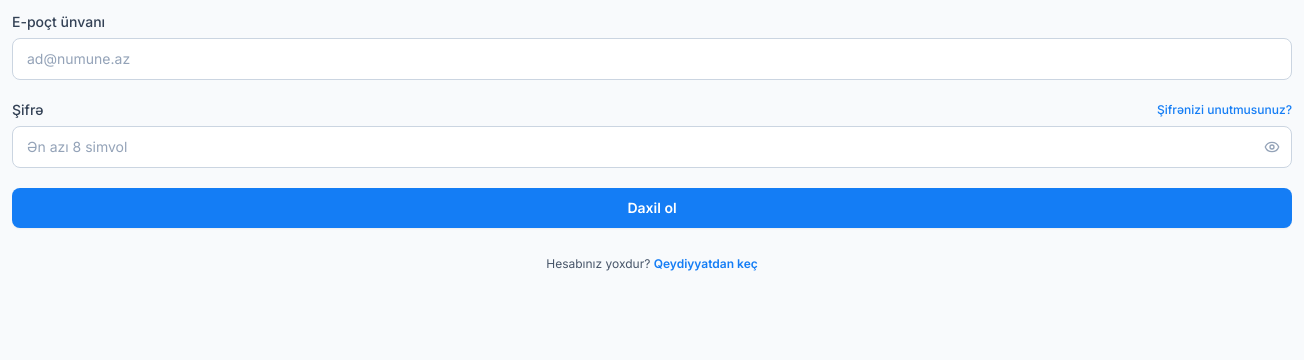
Test: LoginForm Component › displays backend error message in red banner on rejected login
Type "wrong@feedlab.az" into the field labelled "E-poçt ünvanı". click: {"x": 652, "y": 59}
box: [12,38,1292,80]
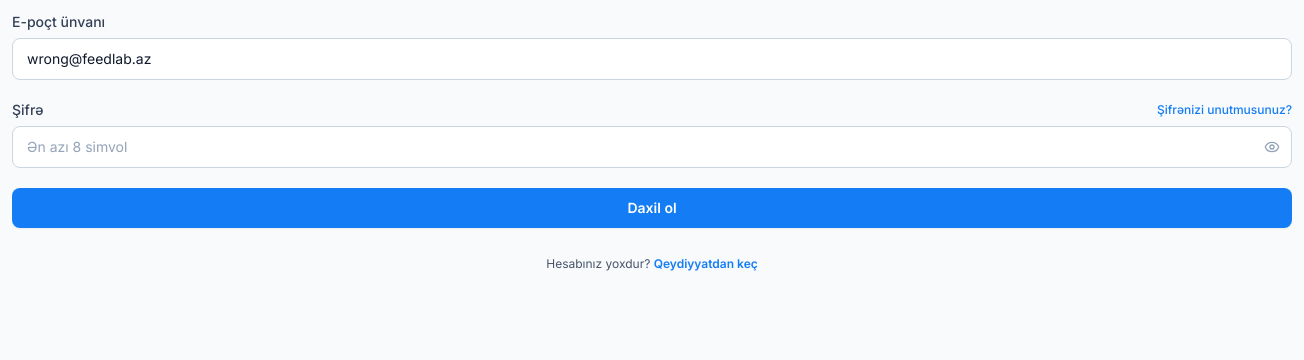
Type "WrongPassword123!" into the password field labelled "Şifrə". click: {"x": 652, "y": 147}
box: [12,126,1292,168]
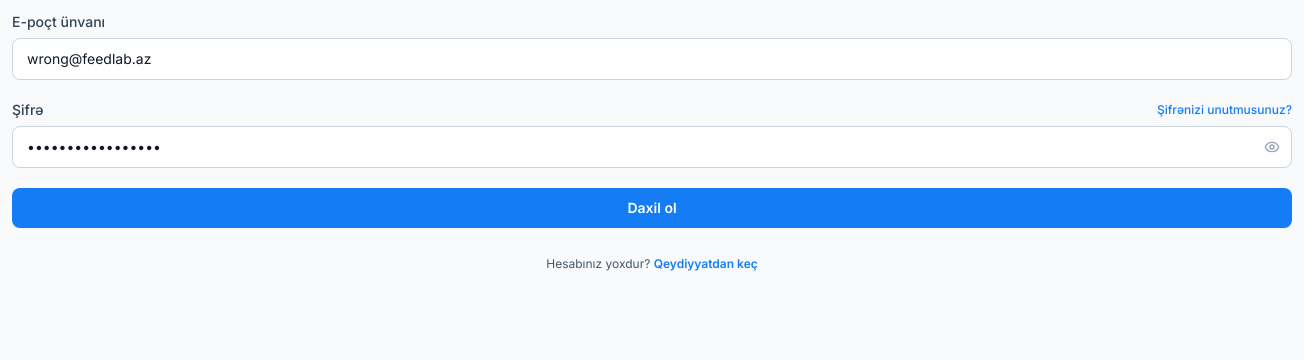
Click the button "Daxil ol". click: {"x": 652, "y": 208}
box: [12,188,1292,228]
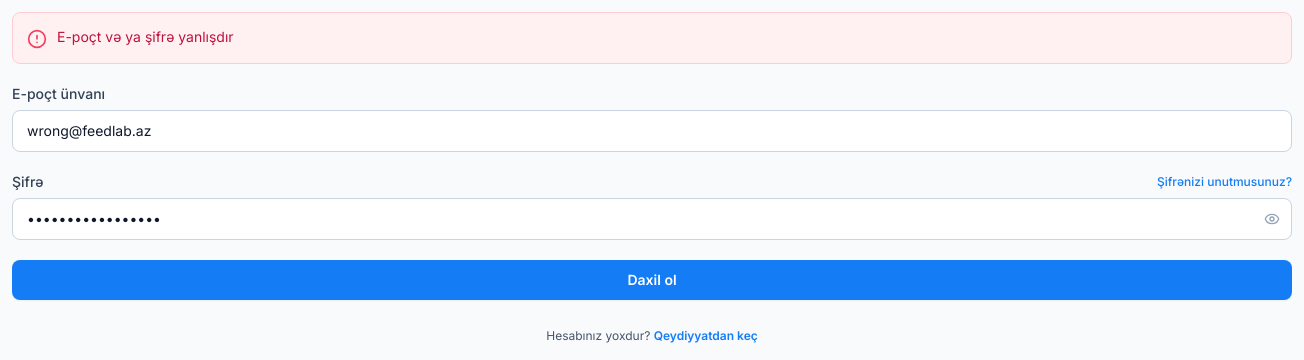
Expected: the message "E-poçt və ya şifrə yanlışdır" is shown, [12,12,1292,64]
Expected: the text "E-poçt və ya şifrə yanlışdır" is shown, [57,27,234,47]
